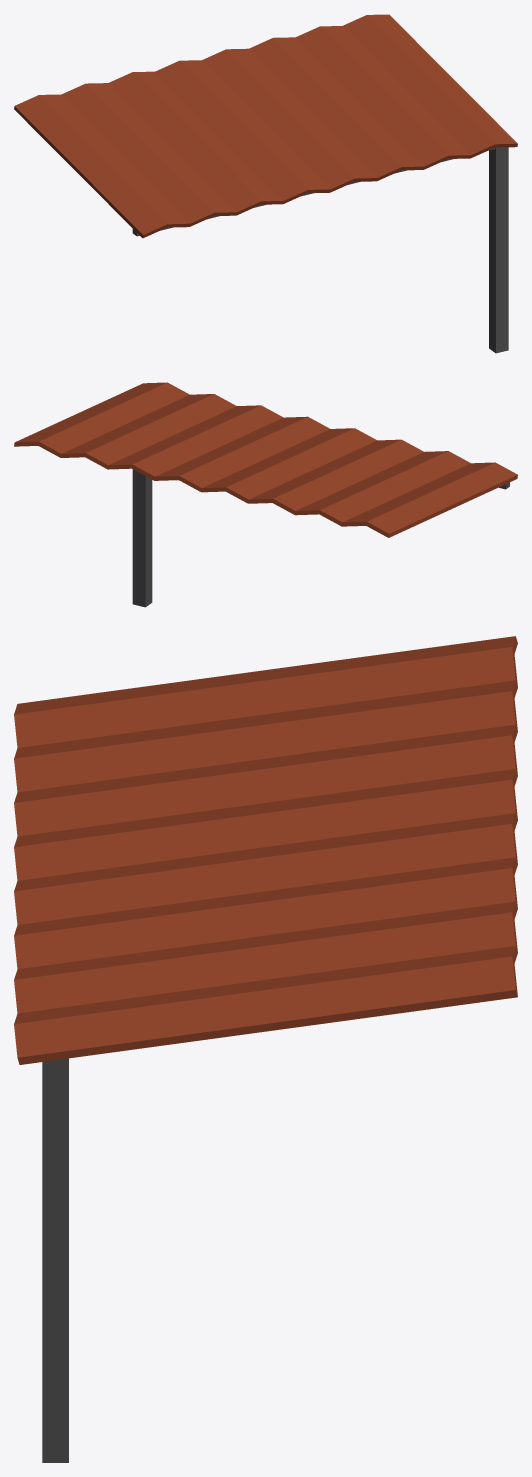
File: SmallRoof_01.fbx
3 views of the same model, one above another, from view 1: azimuth 30°, elevation 25°; view 2: azimuth 150°, elevation 25°; view 3: azimuth 270°, elevation 25° (orthographic). The views are drawn at different scales.
Visible parts, largest first — view 1: SmallRoof_01; view 2: SmallRoof_01; view 3: SmallRoof_01.
Boxes of the visible parts, box(x1,y1,x2,y2) form: SmallRoof_01: box(14, 14, 517, 353); SmallRoof_01: box(14, 382, 517, 607); SmallRoof_01: box(14, 636, 517, 1462).
Size of the model in its own units: 500 by 321 by 301.
